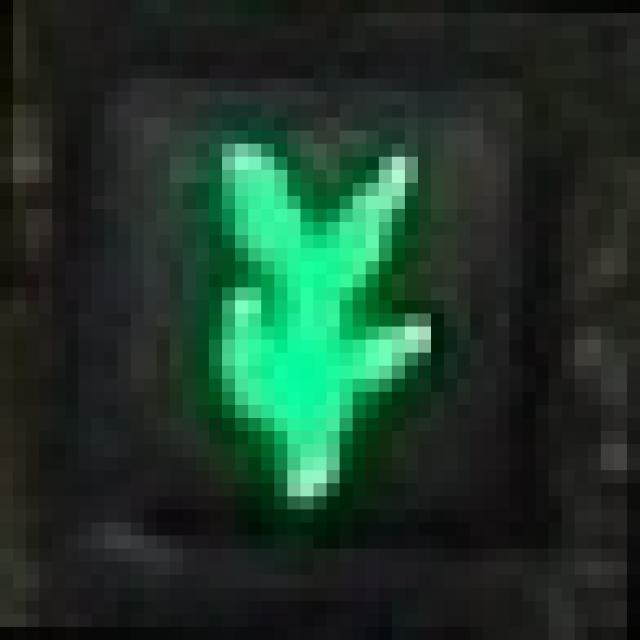green_light: (118, 78, 484, 510)
